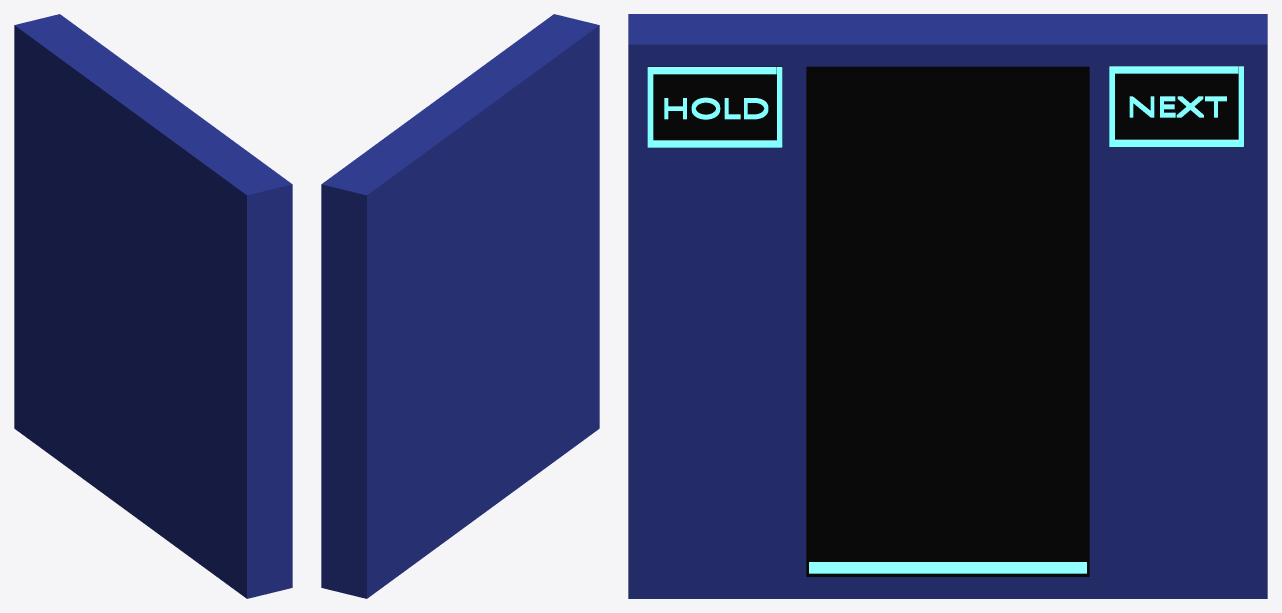
Rendered from tetrisplace.fbx.
The picture shows the model from 3 angles, left to right: view 1: azimuth 30°, elevation 25°; view 2: azimuth 150°, elevation 25°; view 3: azimuth 270°, elevation 25°; orthographic projection. The views are drawn at different scales.
Visible parts, largest first — view 1: Cube; view 2: Cube; view 3: Cube, Cube.004, Cube.001.
Part boxes in pixels (left/top/right/bottom): Cube: left=14, top=14, right=292, bottom=598; Cube: left=321, top=14, right=599, bottom=598; Cube: left=628, top=14, right=1267, bottom=598; Cube.004: left=647, top=67, right=782, bottom=147; Cube.001: left=1109, top=66, right=1243, bottom=146.
Bounding box in the file's own units: 565 × 4400 × 4600.
